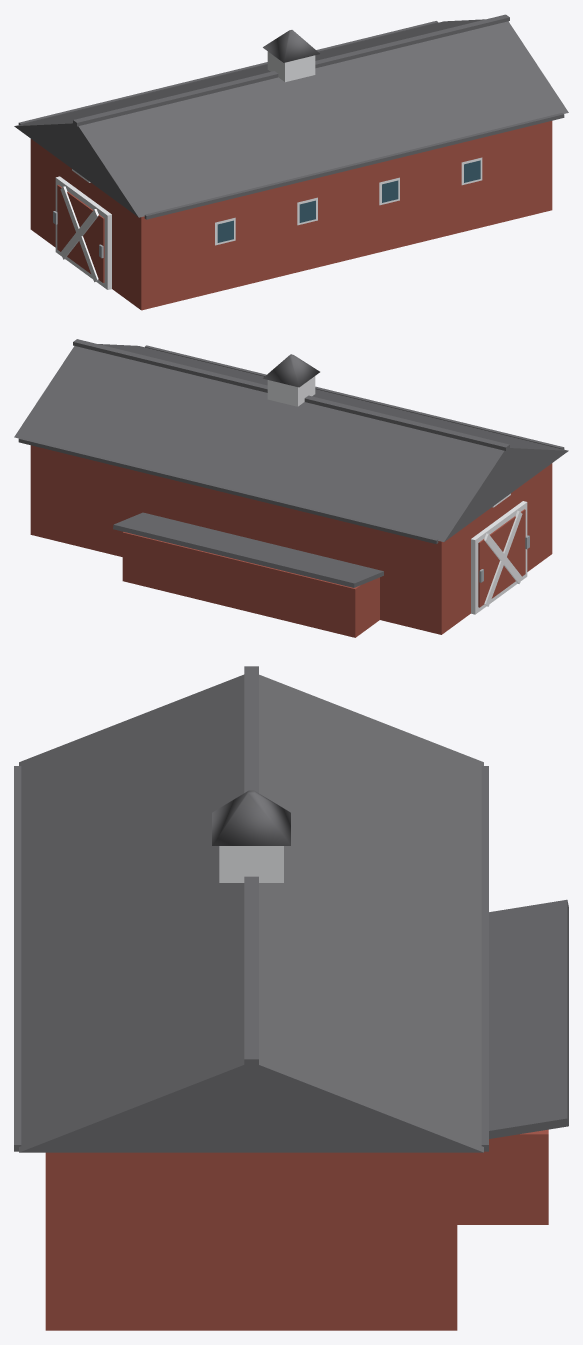
The model's file is barn.glb.
3 renders of one model, top to bottom at view 1: azimuth 30°, elevation 25°; view 2: azimuth 150°, elevation 25°; view 3: azimuth 270°, elevation 25°, orthographic. The views are drawn at different scales.
Parts seen in each view (by area): view 1: Merged_RoofDark, Merged_CityBarnRed, Merged_CityWhitePaint, Merged_WindowGlassDark; view 2: Merged_RoofDark, Merged_CityBarnRed, Merged_CityWhitePaint; view 3: Merged_RoofDark, Merged_CityBarnRed, Merged_CityWhitePaint.
Part boxes in pixels (bbox=[...]): Merged_RoofDark: bbox=[14, 14, 568, 219]; Merged_CityBarnRed: bbox=[30, 121, 552, 310]; Merged_CityWhitePaint: bbox=[55, 51, 482, 289]; Merged_WindowGlassDark: bbox=[217, 160, 480, 242]; Merged_RoofDark: bbox=[14, 339, 568, 587]; Merged_CityBarnRed: bbox=[30, 445, 552, 637]; Merged_CityWhitePaint: bbox=[267, 376, 527, 614]; Merged_RoofDark: bbox=[14, 666, 568, 1152]; Merged_CityBarnRed: bbox=[45, 1129, 548, 1330]; Merged_CityWhitePaint: bbox=[219, 846, 283, 882].
Bounding box in the file's own units: 31.6 × 13.2 × 18.87.
